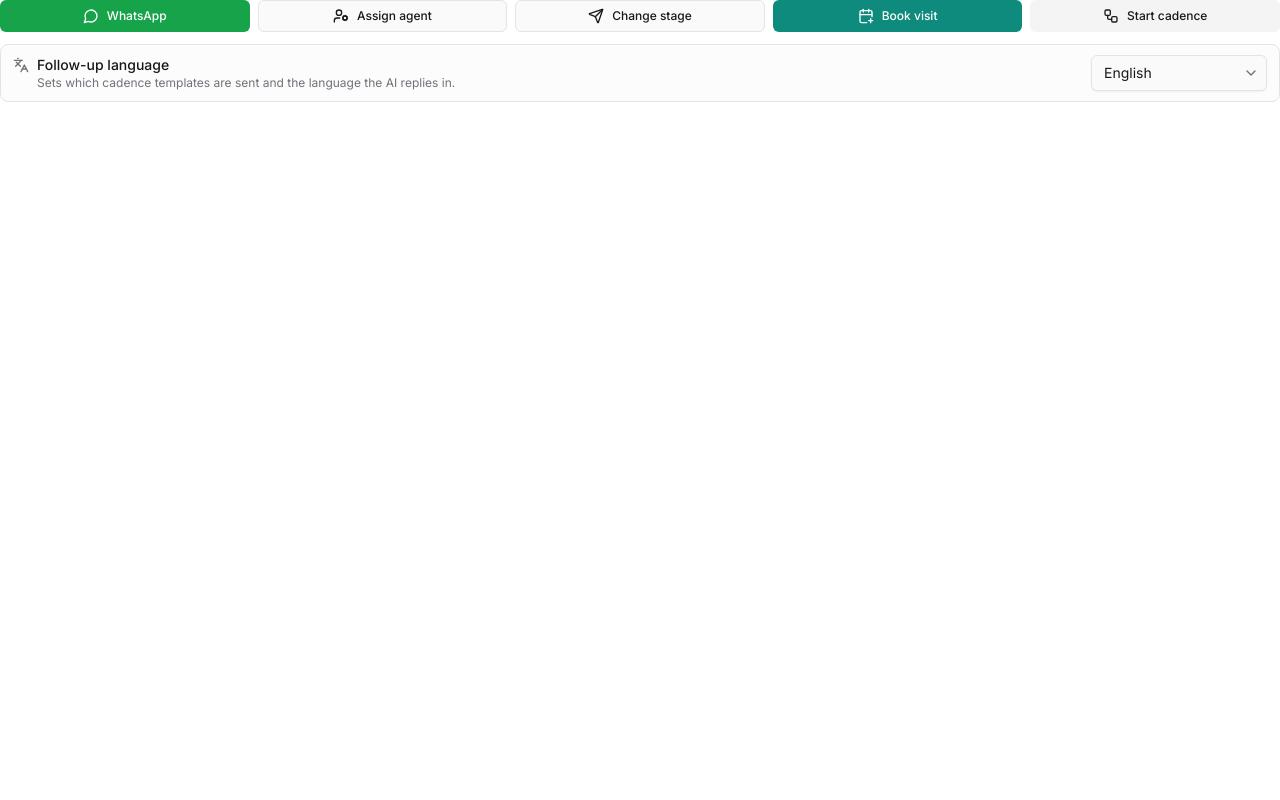
Test: assign agent › keeps Assign disabled until an agent is picked
Click the button "Assign agent".
click(382, 16)  # box [258,0,507,32]
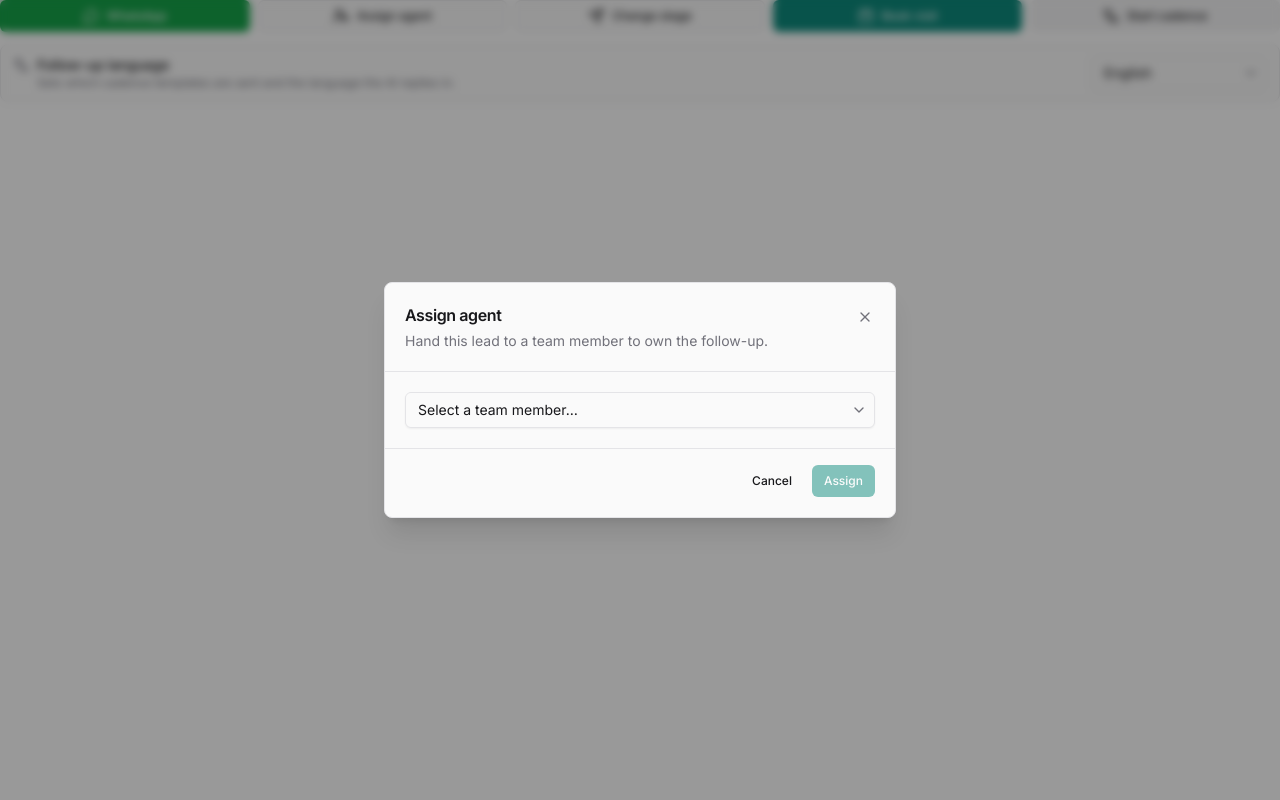
Expected: the button "Assign" is disabled, [812,465,875,497]
Select "Rahul · STAFF" in the dropdown named "team member" at (640, 410), box [405,392,875,428]
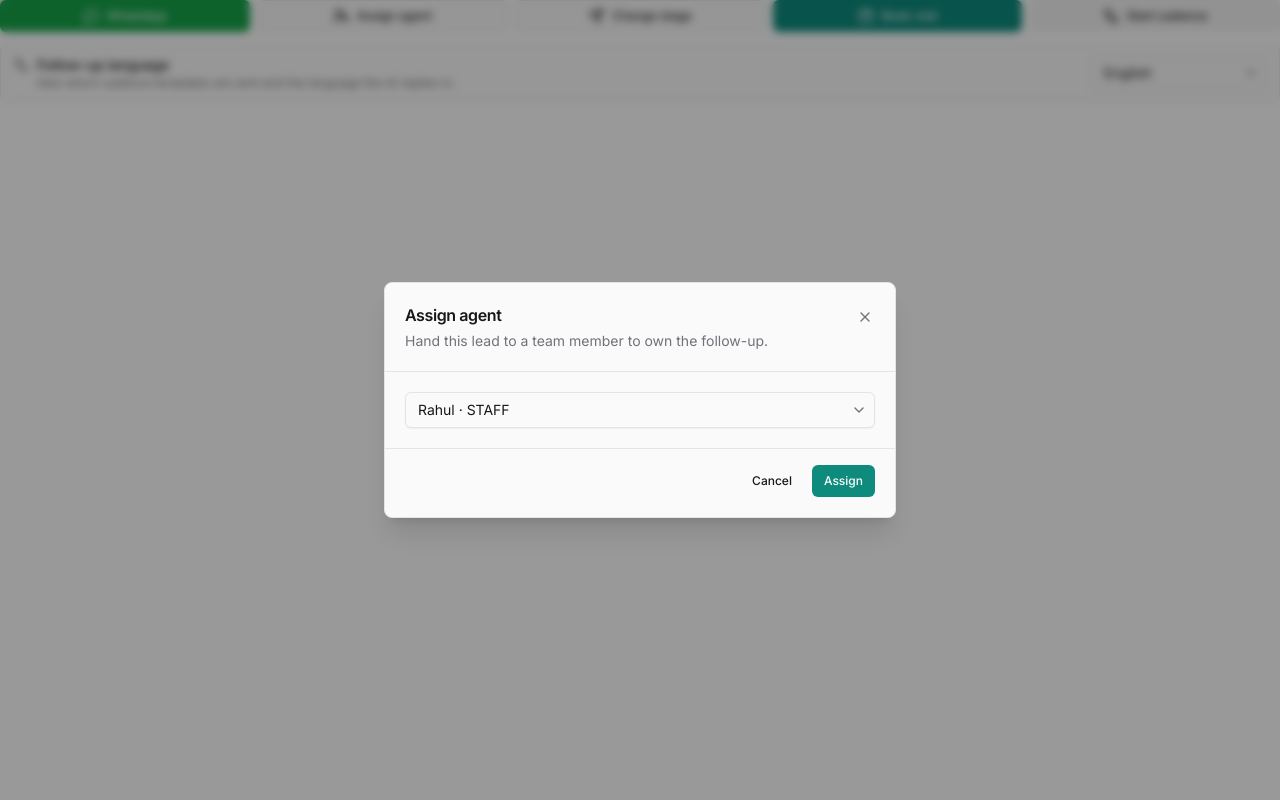
Expected: the button "Assign" is enabled, [812,465,875,497]
